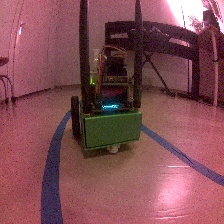rob: (69, 54, 143, 153)
